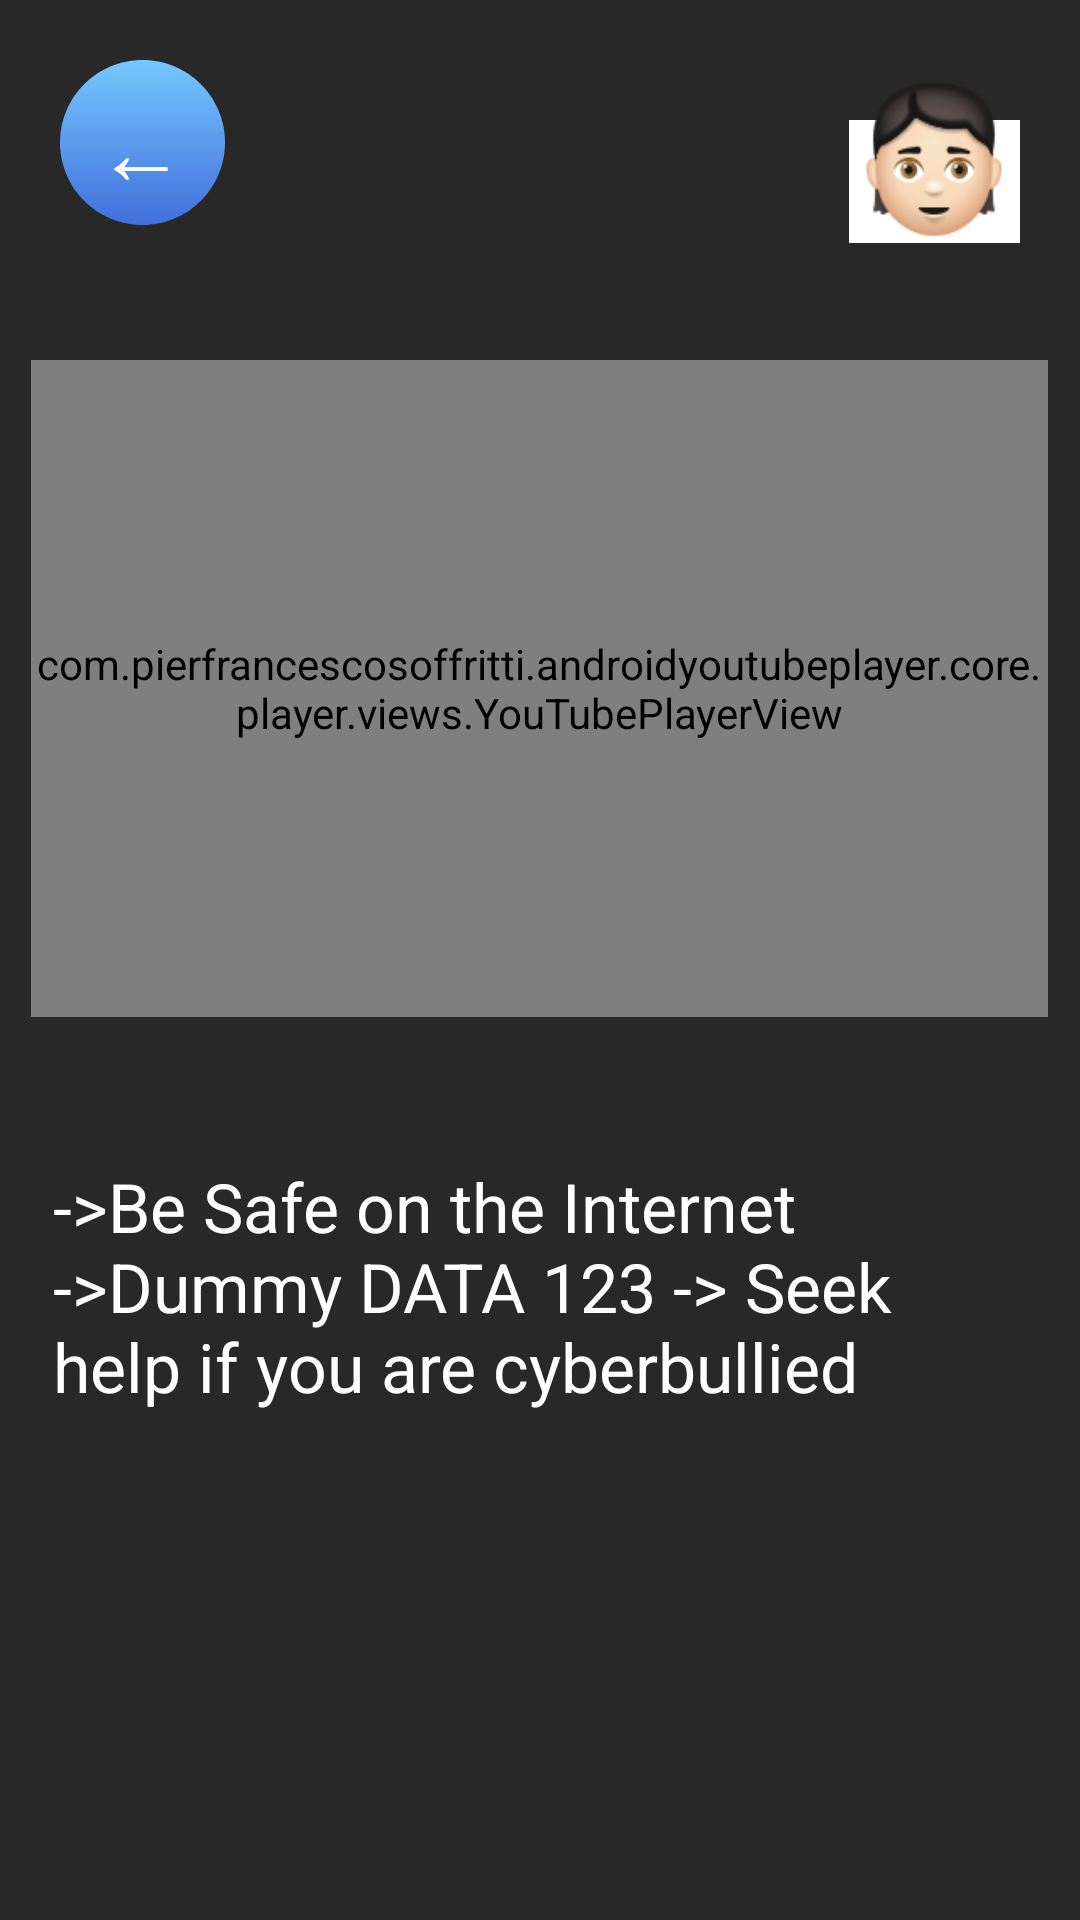

Locate icon controls on the screen. Image size 1080*1920, boxes as (x1, y1, x2, y2).
back: (60, 60, 225, 225)
